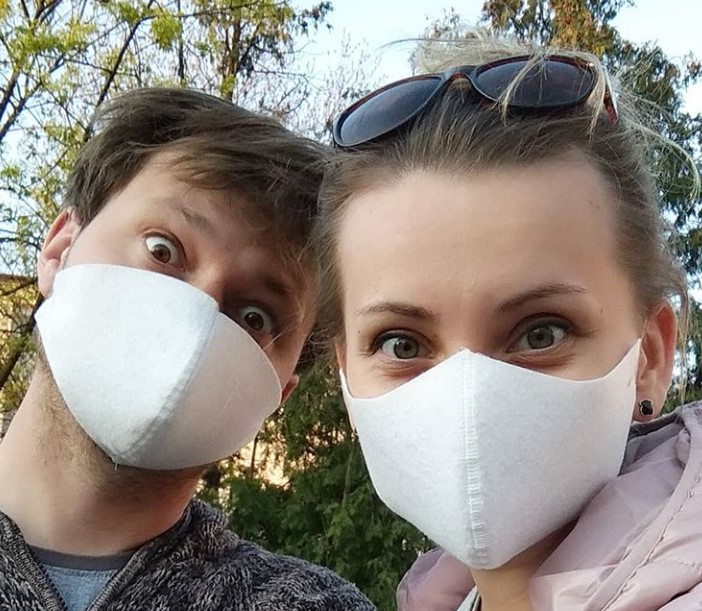face_with_mask: (324, 54, 684, 579), (34, 119, 322, 476)
